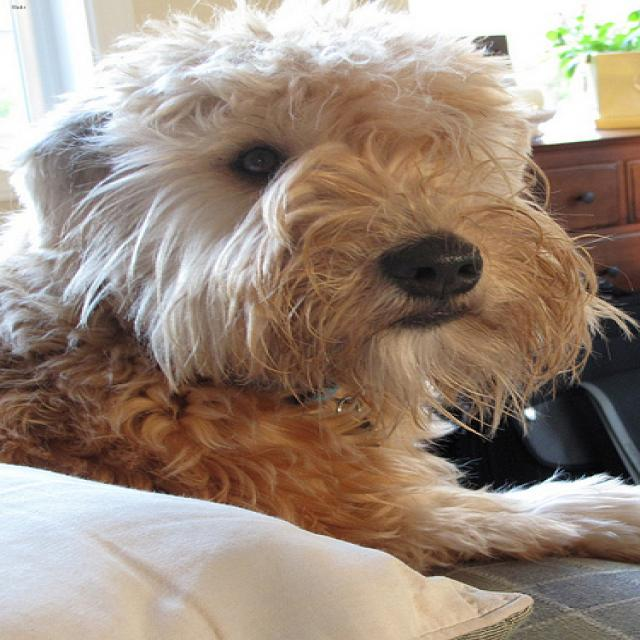dog-wheaten_terrier: (2, 1, 637, 576)
